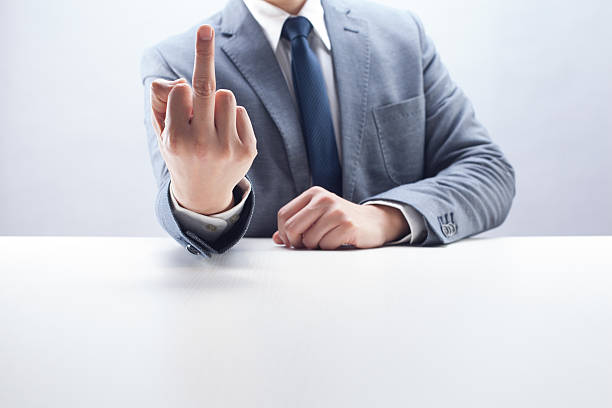insulting_gesture: (147, 23, 257, 205)
